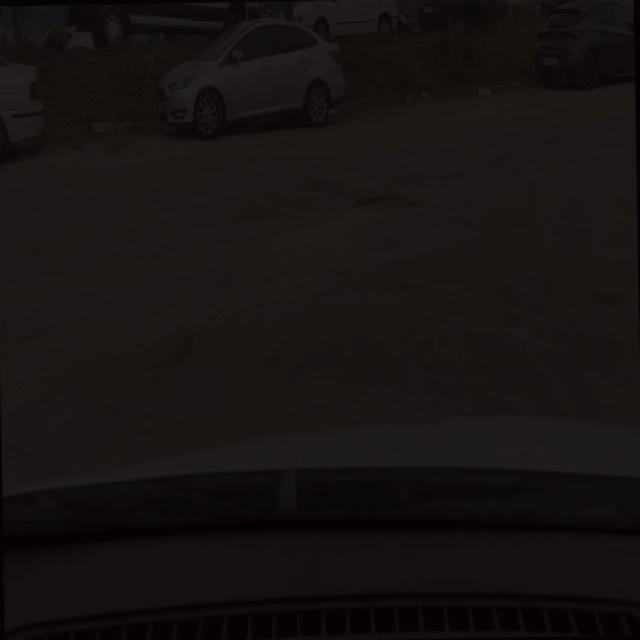Pothole: (346, 185, 432, 231)
